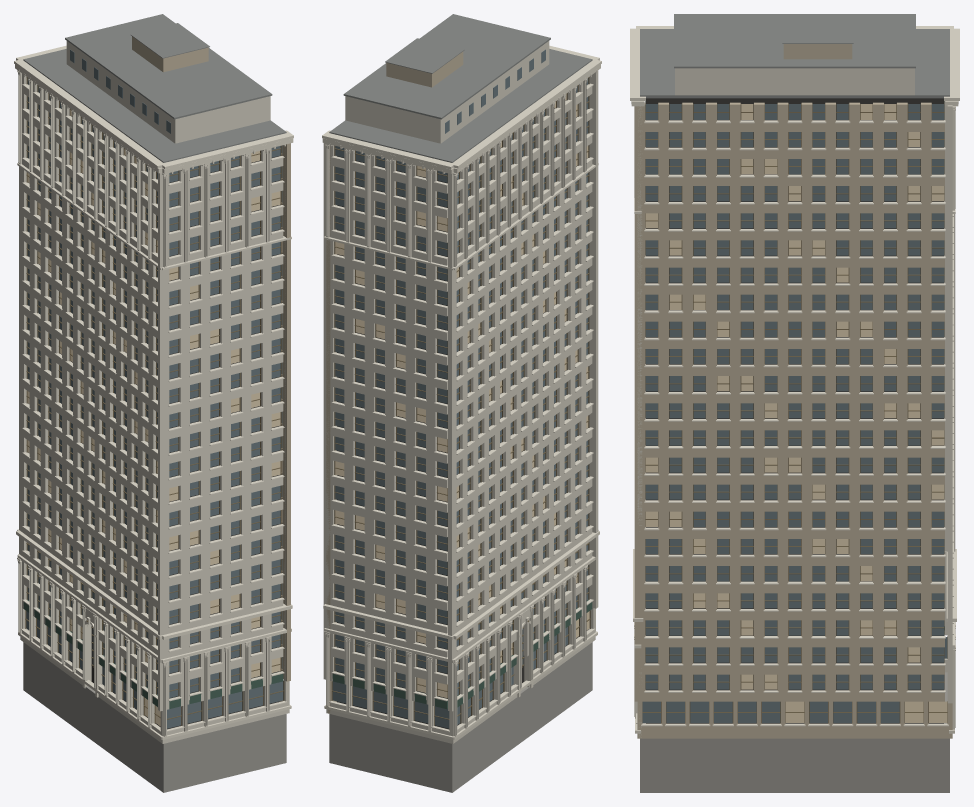
Rendered from old_republic.glb.
3 renders of one model, left to right at view 1: azimuth 30°, elevation 25°; view 2: azimuth 150°, elevation 25°; view 3: azimuth 270°, elevation 25°, orthographic. The views are drawn at different scales.
Parts seen in each view (by area): view 1: Light buff glazed terracotta, Carved terracotta cornices and capitals, Separate recessed double hung panes, Grey penthouse roof, Minnesota granite street base, Bronze entrance and dark metal sash, Buff Kittanning rear brick, Night occupied office panes, Deep opaque window backing, Dark green glazed retail spandrels; view 2: Light buff glazed terracotta, Carved terracotta cornices and capitals, Separate recessed double hung panes, Grey penthouse roof, Bronze entrance and dark metal sash, Minnesota granite street base, Night occupied office panes, Buff Kittanning rear brick, Deep opaque window backing, Dark green glazed retail spandrels; view 3: Buff Kittanning rear brick, Separate recessed double hung panes, Carved terracotta cornices and capitals, Grey penthouse roof, Minnesota granite street base, Bronze entrance and dark metal sash, Light buff glazed terracotta, Night occupied office panes, Deep opaque window backing.
Part boxes in pixels (x1,y1,x2,y2): Light buff glazed terracotta: [18, 41, 289, 743]; Carved terracotta cornices and capitals: [14, 45, 293, 739]; Separate recessed double hung panes: [26, 49, 283, 728]; Grey penthouse roof: [23, 14, 286, 162]; Minnesota granite street base: [23, 642, 286, 792]; Bronze entrance and dark metal sash: [25, 77, 284, 725]; Buff Kittanning rear brick: [132, 36, 290, 701]; Night occupied office panes: [27, 110, 282, 726]; Deep opaque window backing: [37, 92, 278, 729]; Dark green glazed retail spandrels: [23, 599, 283, 708]; Light buff glazed terracotta: [323, 41, 598, 743]; Carved terracotta cornices and capitals: [322, 45, 601, 739]; Separate recessed double hung panes: [332, 49, 588, 728]; Grey penthouse roof: [329, 14, 592, 162]; Bronze entrance and dark metal sash: [331, 77, 590, 725]; Minnesota granite street base: [329, 642, 592, 792]; Night occupied office panes: [335, 94, 589, 698]; Buff Kittanning rear brick: [326, 51, 463, 713]; Deep opaque window backing: [337, 92, 578, 729]; Dark green glazed retail spandrels: [332, 599, 592, 709]; Buff Kittanning rear brick: [634, 44, 952, 738]; Separate recessed double hung panes: [642, 101, 947, 722]; Carved terracotta cornices and capitals: [630, 26, 959, 733]; Grey penthouse roof: [640, 14, 949, 98]; Minnesota granite street base: [640, 672, 949, 792]; Bronze entrance and dark metal sash: [642, 101, 947, 723]; Light buff glazed terracotta: [634, 68, 955, 738]; Night occupied office panes: [645, 104, 947, 722]; Deep opaque window backing: [646, 98, 943, 723].
Size of the model in its own units: 22.54 by 107 by 43.05.
